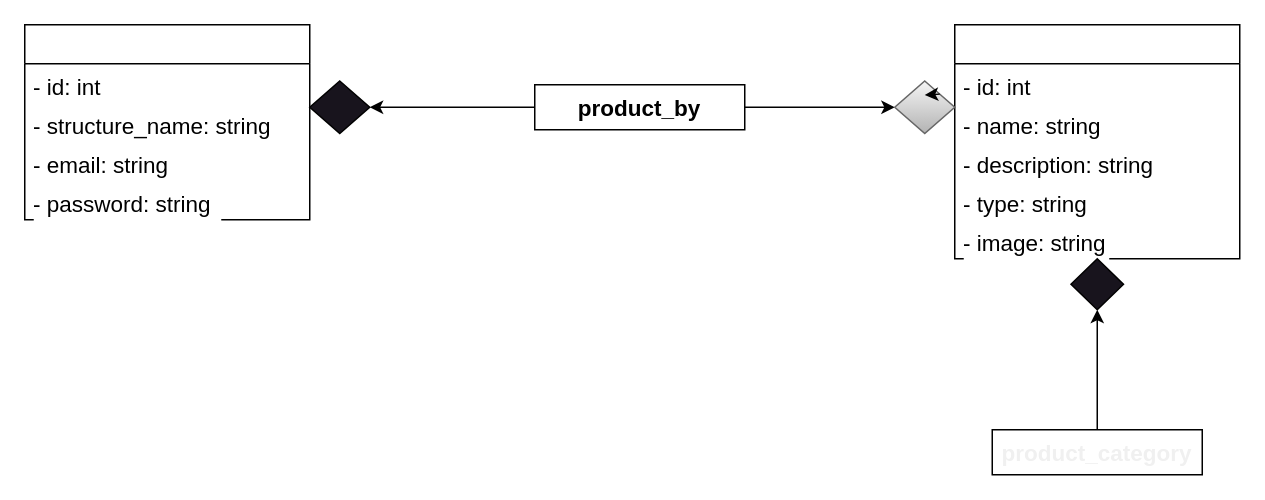
Some shapes in this 1265 by 500 pixel diagram are drawn without their labels. Each missing label, with the box of its shape:
product: (953, 23, 1240, 259)
user: (23, 23, 310, 220)
